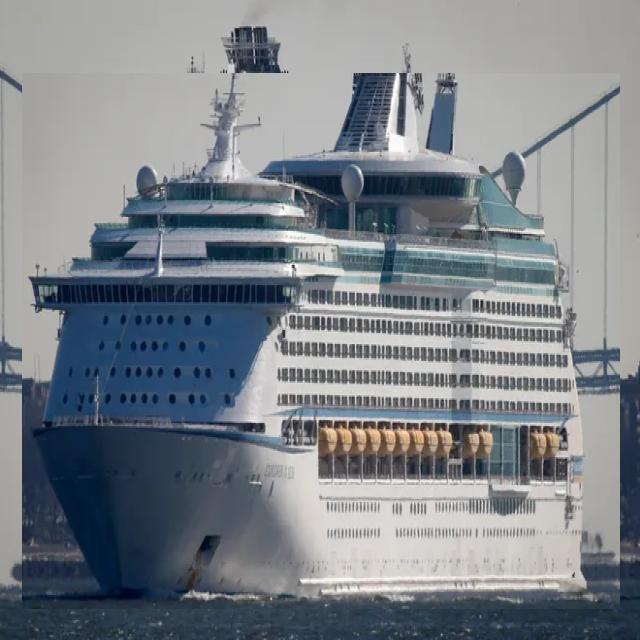PassengerShip: (22, 73, 620, 609)
